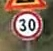limite 30: (9, 10, 44, 39)
